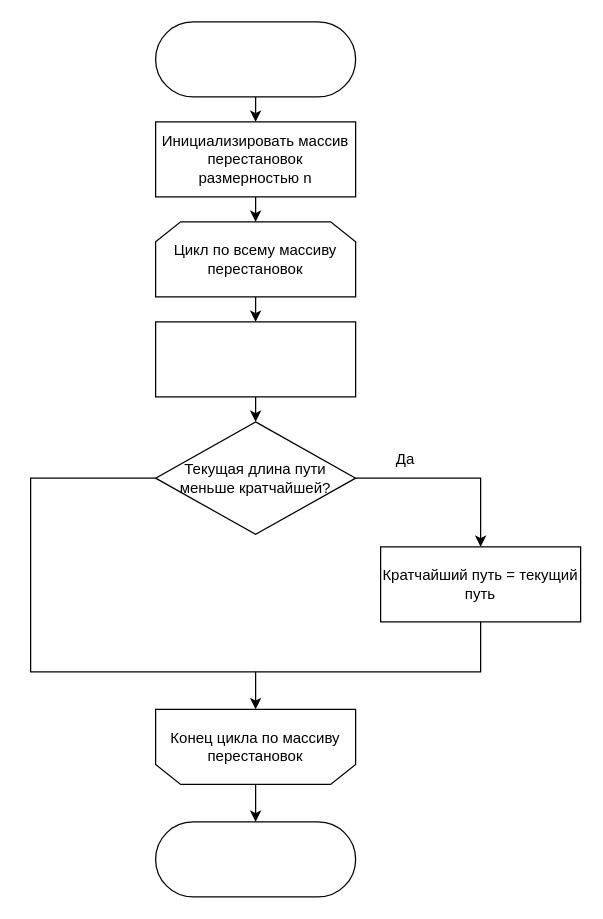
Image size: 603x919. Some labels were removed from this diagram. Each missing label, with the centre of its shape:
"Конец" goes at [255,859].
"Начало" goes at [255,59].
"Посчитать длину пути текущей перестановки" goes at [255,359].
